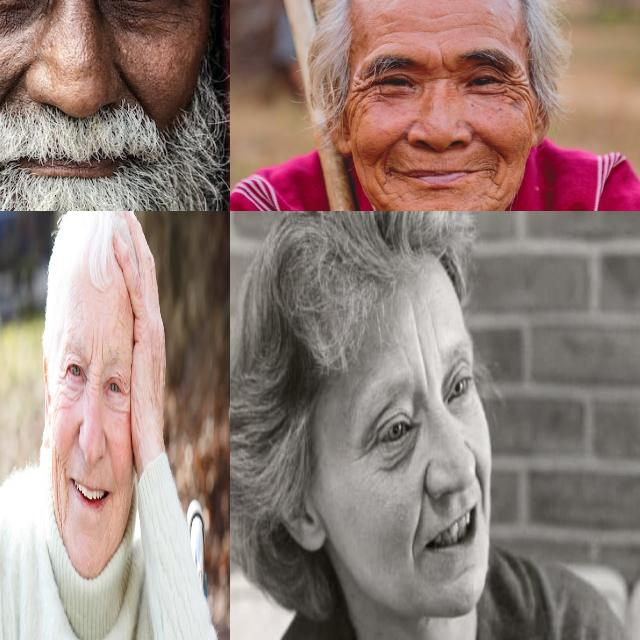bunny_line: (84, 382, 90, 404)
crows_feet: (350, 80, 376, 110), (506, 76, 528, 104), (360, 430, 379, 454), (58, 368, 65, 392), (123, 378, 128, 399)
forehead: (425, 11, 477, 34), (410, 310, 426, 362), (104, 306, 126, 328), (74, 295, 84, 322)
frown_line: (88, 334, 95, 368), (88, 369, 100, 385), (101, 338, 104, 364)
gummy_smile: (116, 64, 150, 114), (410, 478, 426, 562), (0, 61, 23, 119), (478, 125, 508, 158), (380, 134, 408, 164), (471, 457, 486, 509), (114, 472, 120, 494)
masseter: (51, 448, 62, 516)
sad_smile: (371, 174, 391, 211), (489, 172, 507, 206), (64, 491, 70, 531)
